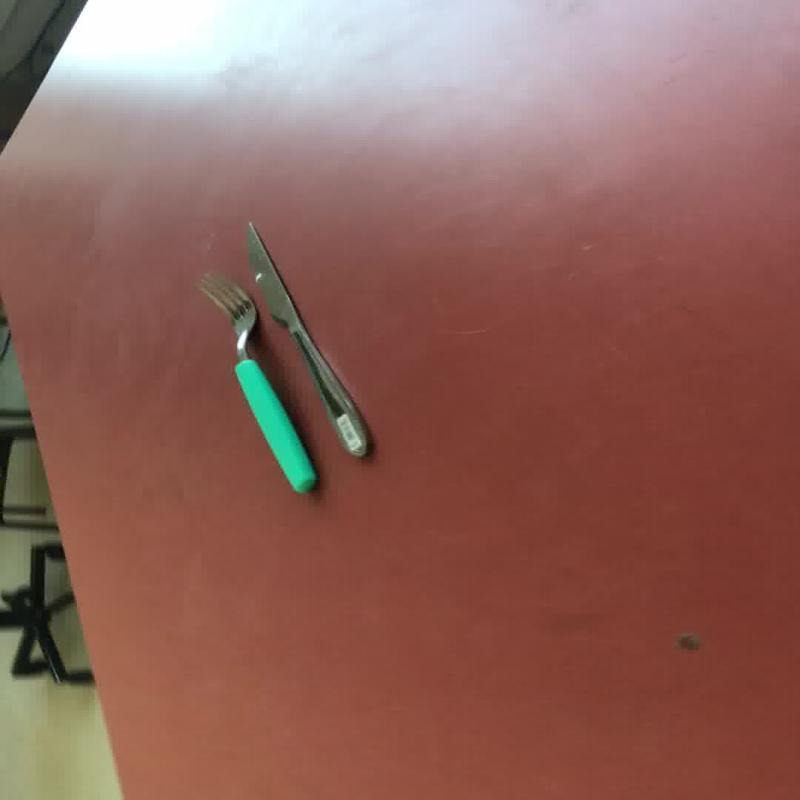fork: (196, 272, 318, 494)
knife: (244, 219, 372, 457)
